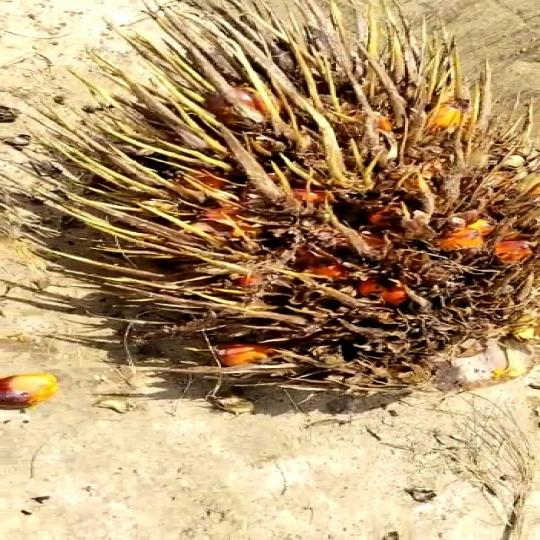terlalu masak: (19, 0, 540, 429)
